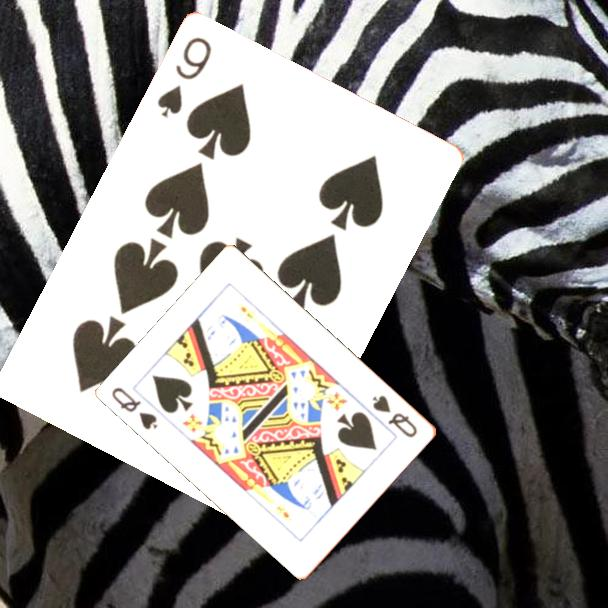s09: (153, 33, 215, 122)
s12: (369, 392, 421, 441), (109, 384, 161, 432)
